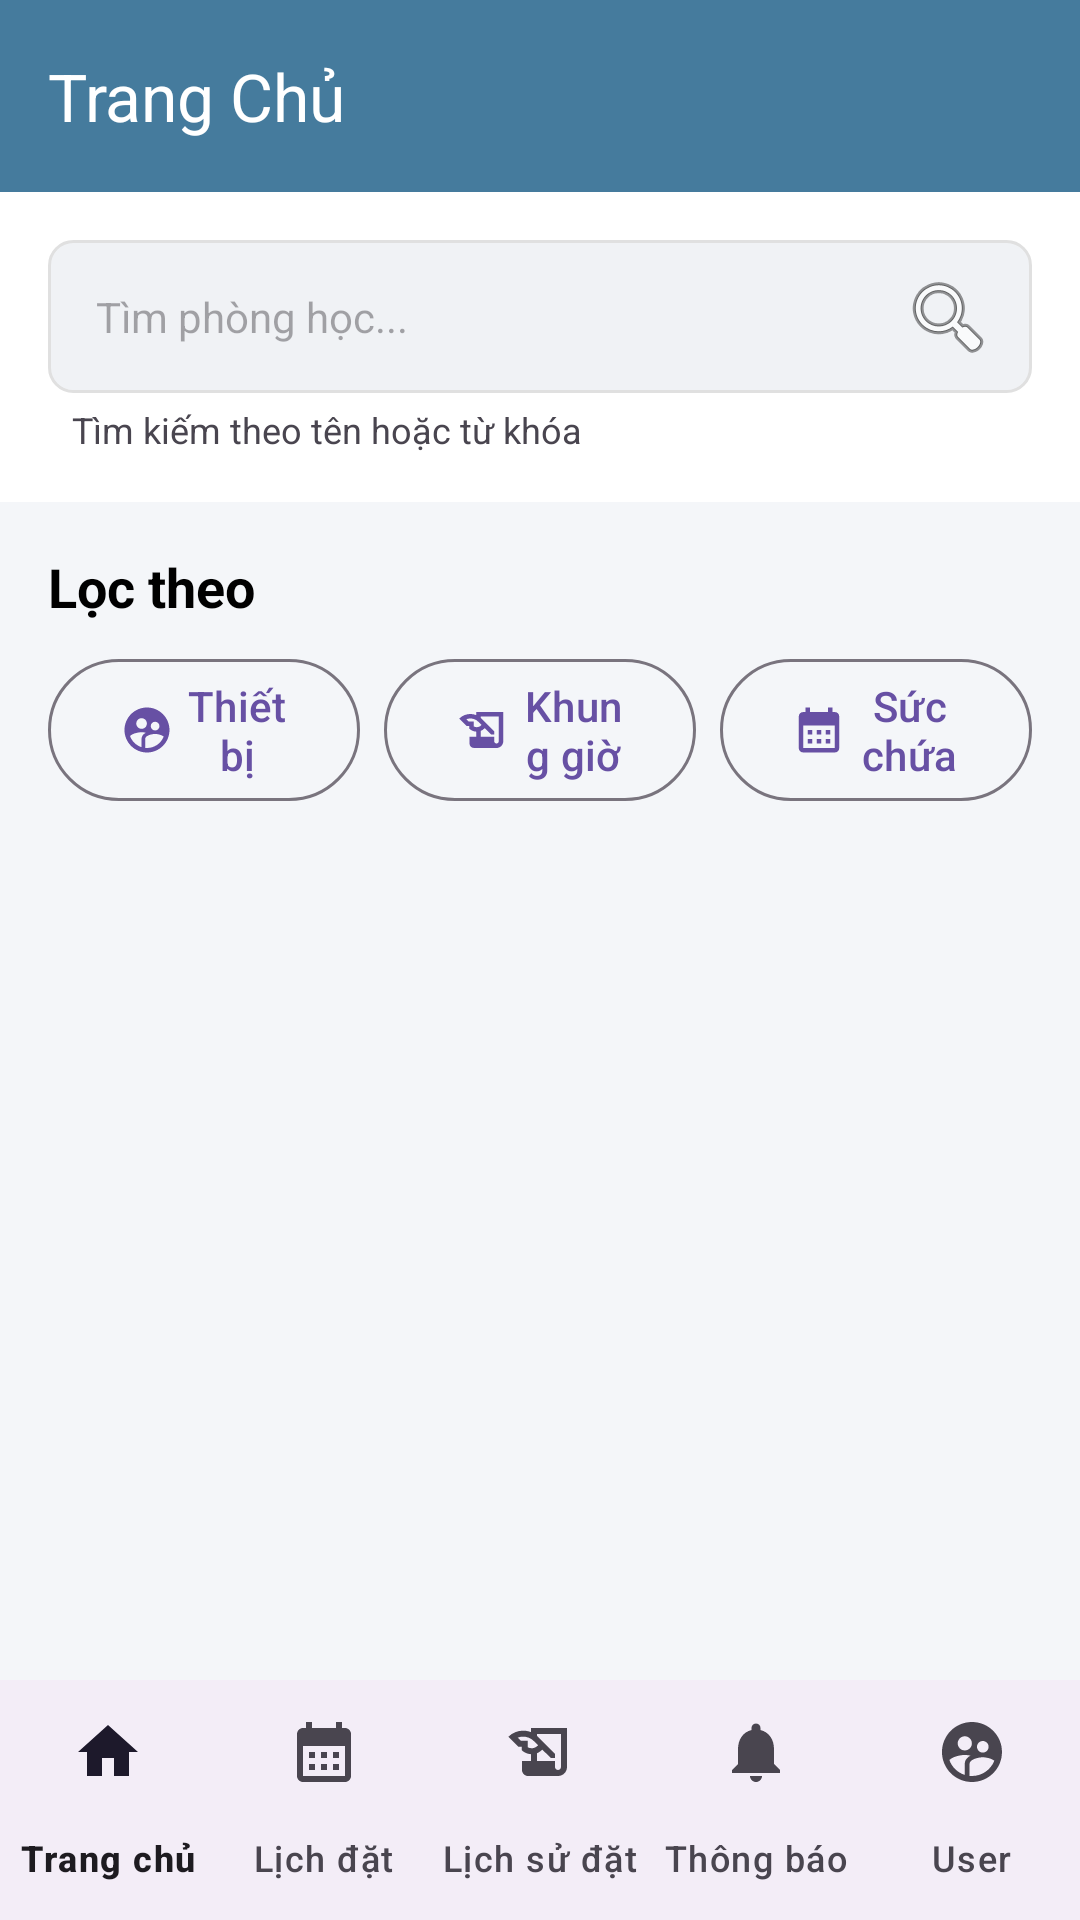

Icons on this 1080px×1920px Android screen, each with the point to tap as point (x, y):
search: point (948, 317)
